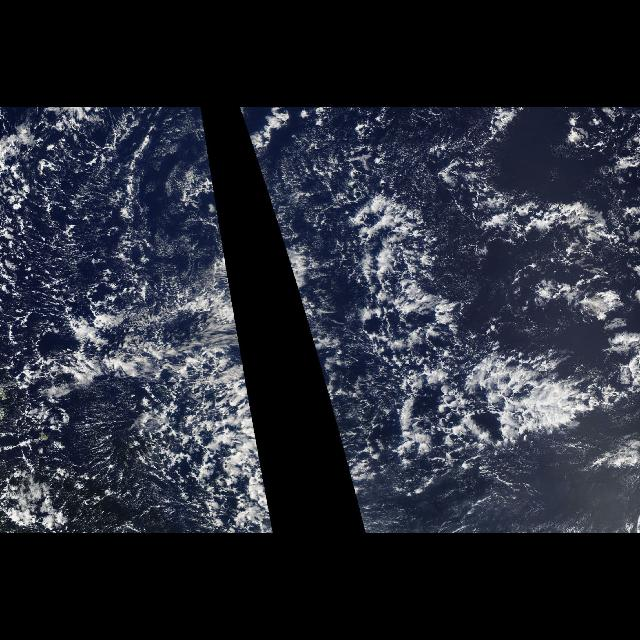Fish: (349, 176, 639, 464)
Gravel: (239, 108, 639, 530), (2, 108, 274, 532)
Sugar: (486, 478, 622, 532), (504, 310, 604, 370), (72, 388, 138, 468), (435, 227, 505, 299)
